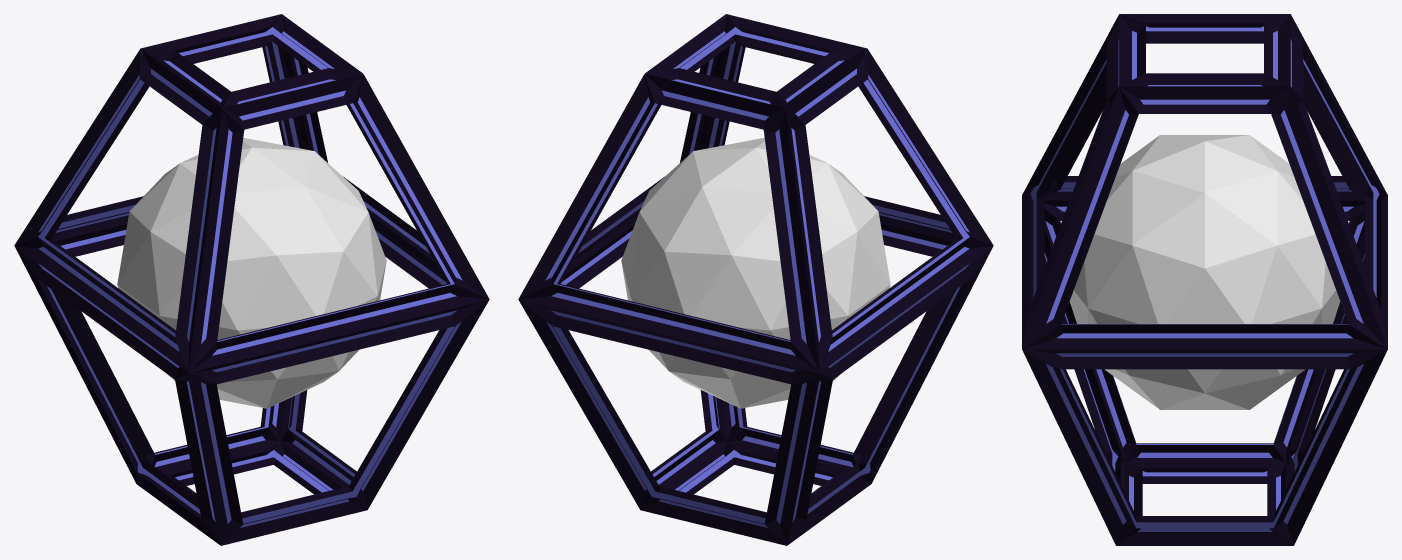
The model's file is lantern.fbx.
3 renders of one model, left to right at view 1: azimuth 30°, elevation 25°; view 2: azimuth 150°, elevation 25°; view 3: azimuth 270°, elevation 25°, orthographic. The views are drawn at different scales.
Parts seen in each view (by area): view 1: Cube, Icosphere; view 2: Cube, Icosphere; view 3: Cube, Icosphere.
Part boxes in pixels (left/top/right/bottom): Cube: left=14, top=14, right=489, bottom=545; Icosphere: left=117, top=137, right=386, bottom=408; Cube: left=518, top=14, right=993, bottom=545; Icosphere: left=621, top=137, right=890, bottom=408; Cube: left=1022, top=14, right=1387, bottom=545; Icosphere: left=1069, top=135, right=1340, bottom=409.
Size of the model in its own units: 253 by 352 by 253.
